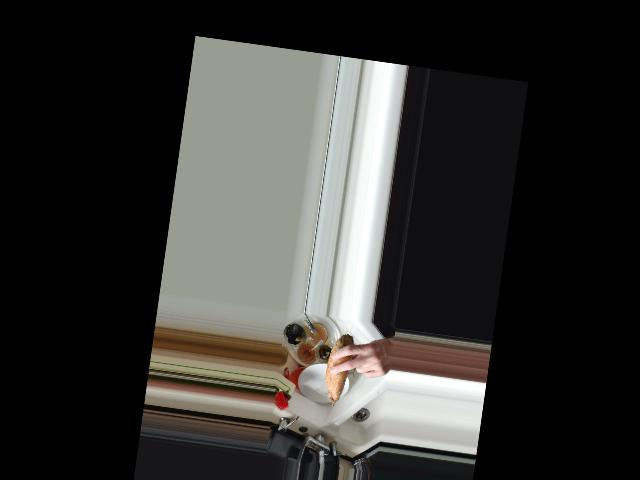sweet_potato: (321, 329, 359, 411)
